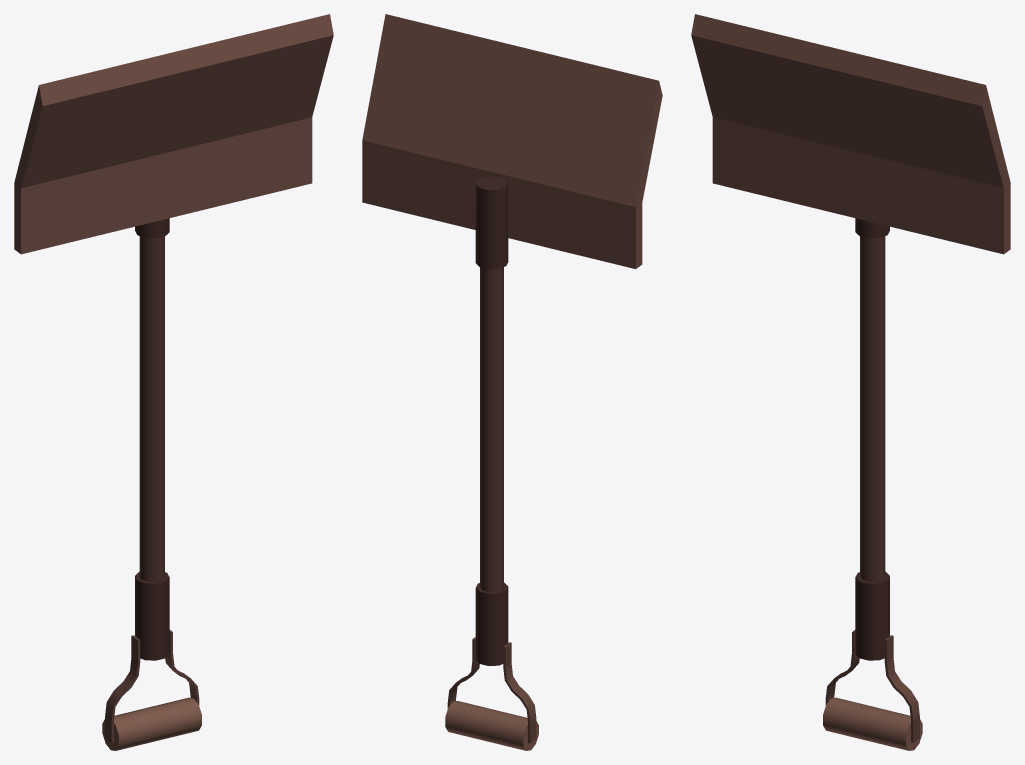
The model's file is Xeng go.fbx.
3 views of the same model, side by side, from view 1: azimuth 30°, elevation 25°; view 2: azimuth 150°, elevation 25°; view 3: azimuth 330°, elevation 25° (orthographic). The views are drawn at different scales.
Visible parts, largest first — view 1: Xeng; view 2: Xeng; view 3: Xeng.
Part boxes in pixels (left/top/right/bottom): Xeng: left=14, top=14, right=333, bottom=750; Xeng: left=362, top=14, right=662, bottom=750; Xeng: left=691, top=14, right=1010, bottom=750.
Size of the model in its own units: 128 by 301 by 33.8.
